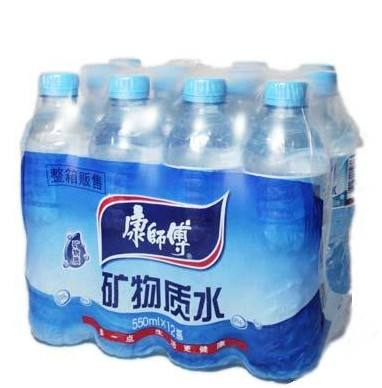amwater: (8, 46, 366, 382)
